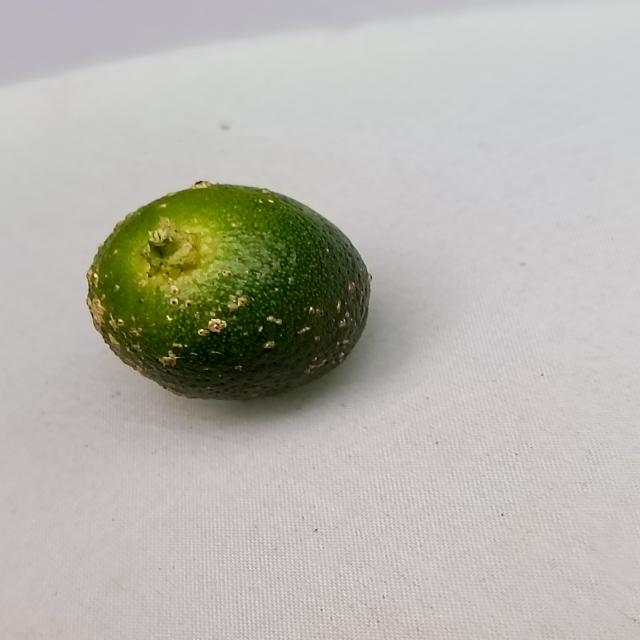scab: (70, 186, 386, 409)
